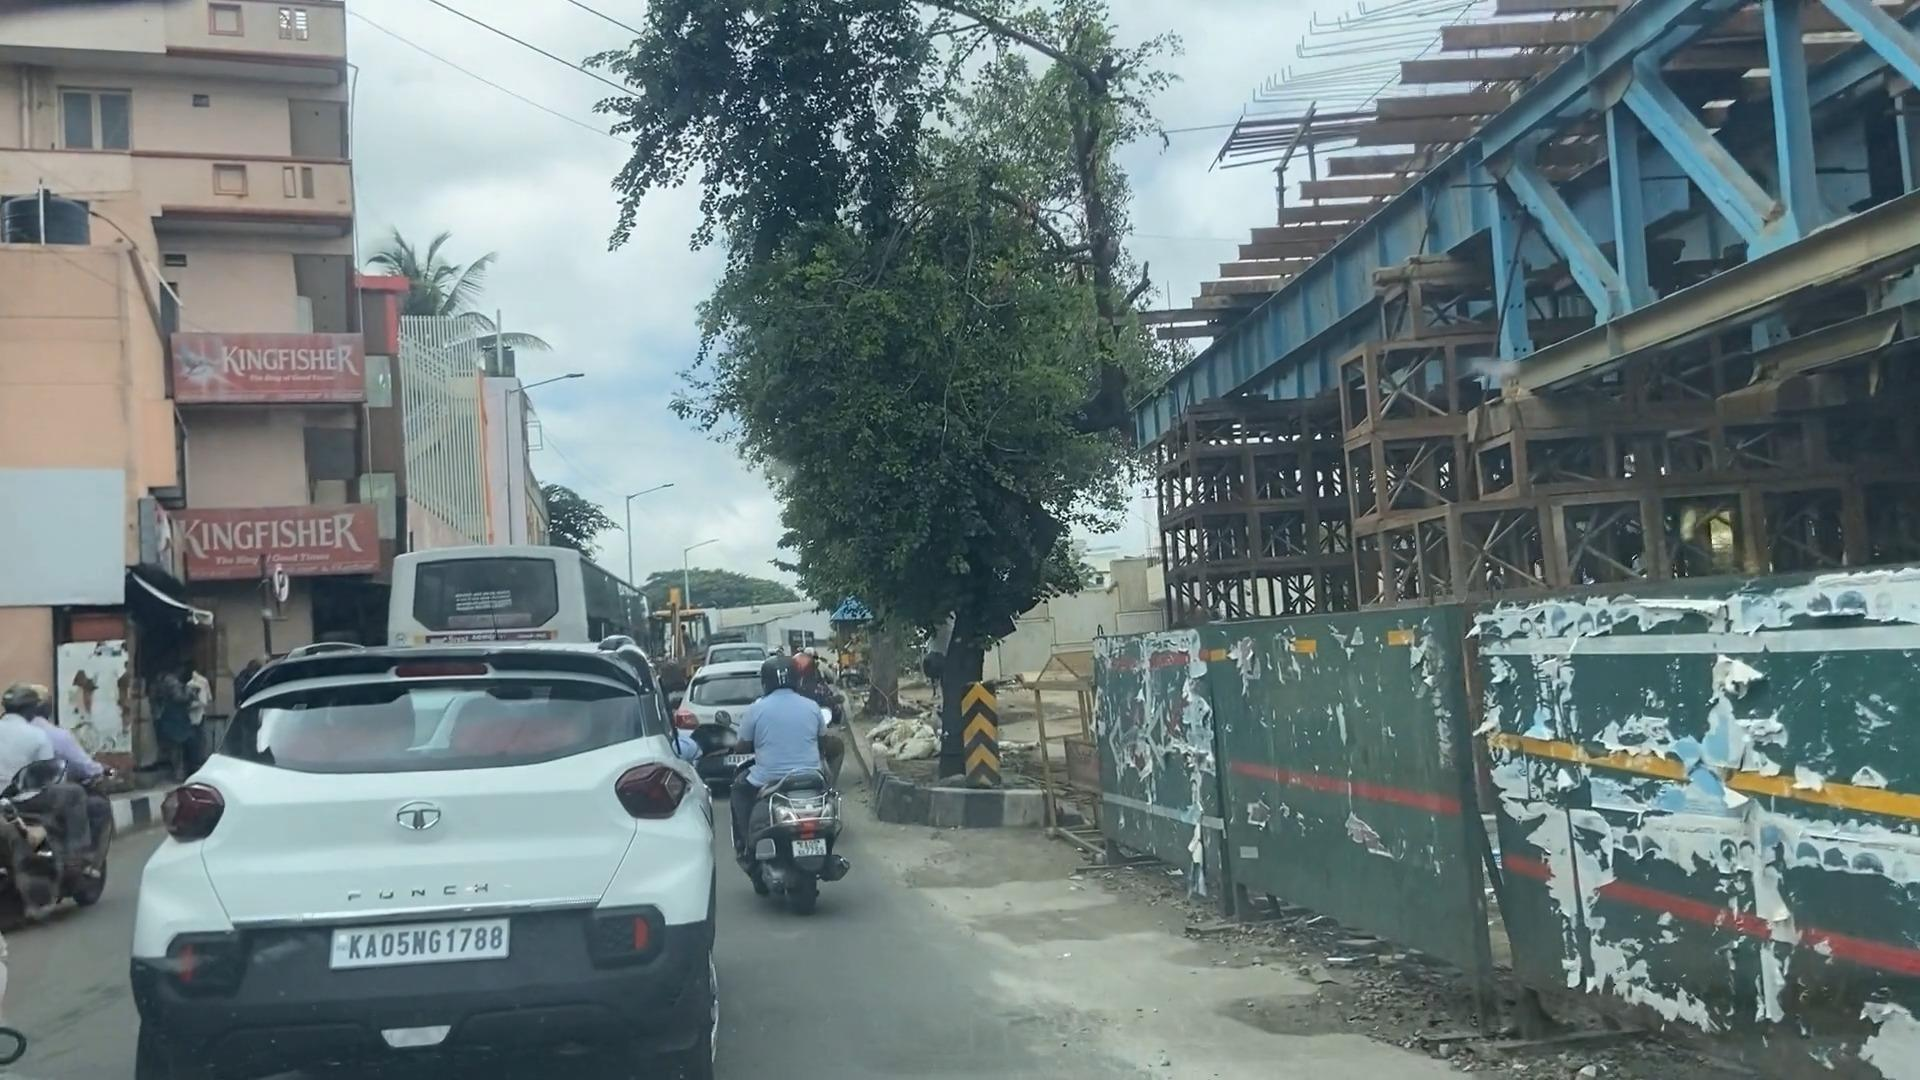LMV: (164, 670, 659, 1080), (746, 651, 851, 913)
RoadDamages: (968, 940, 1141, 1077)
